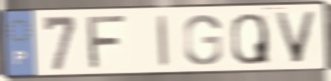7: (41, 14, 79, 73)
F: (86, 13, 130, 71)
G: (181, 13, 224, 67)
I: (155, 13, 170, 70)
Q: (230, 11, 272, 67)
V: (272, 10, 320, 65)
